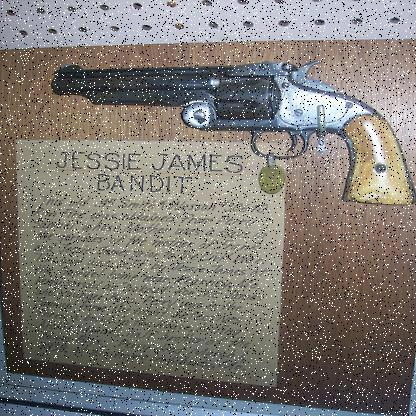pistol: (51, 62, 414, 208)
